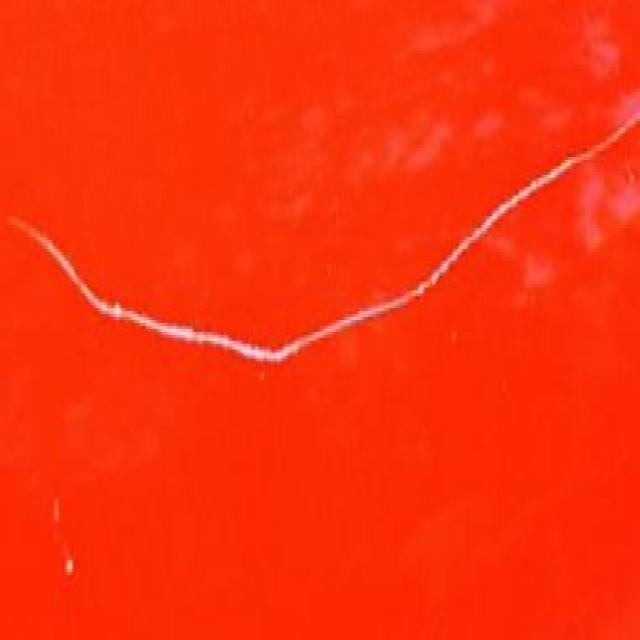scratch: (10, 98, 630, 364)
